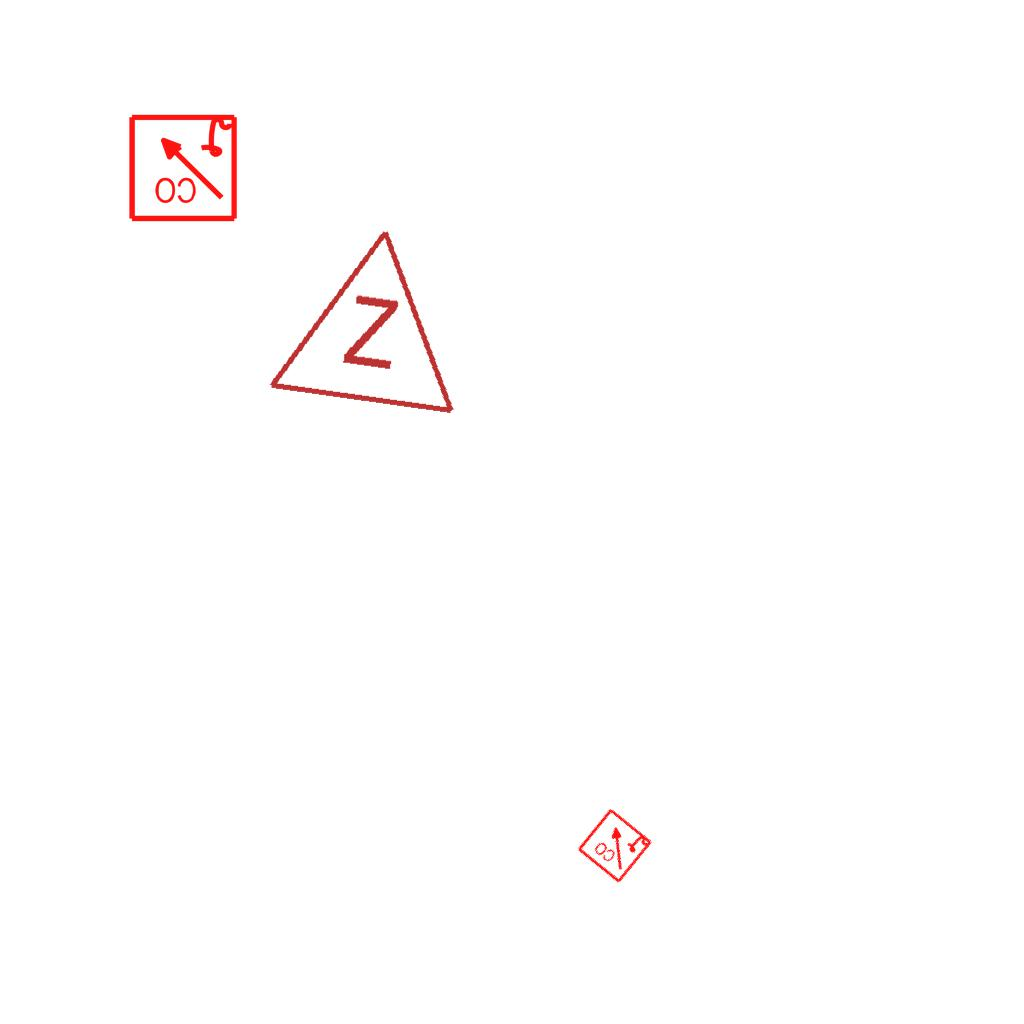ROA_Rauchmelder_optisch_mit_Signalgeber_(Sockelsirene): (126, 110, 239, 223), (575, 805, 655, 885)
Zimmersignalleuchte: (260, 203, 482, 429)
